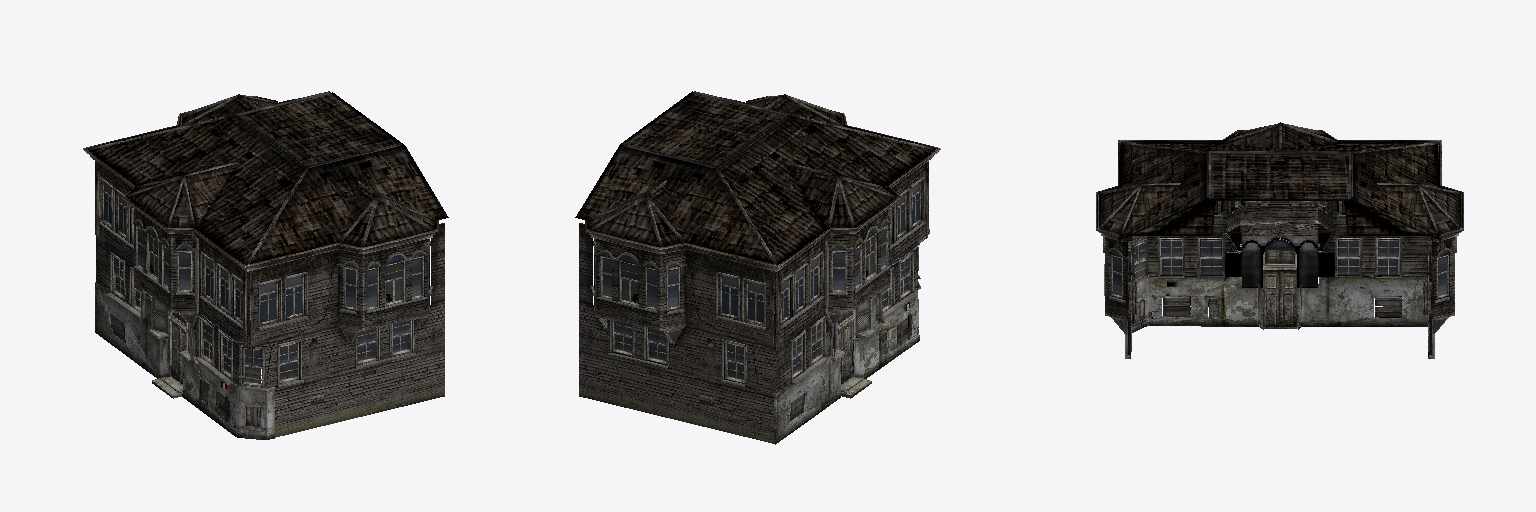
3 views of the same model, side by side, from view 1: azimuth 30°, elevation 25°; view 2: azimuth 150°, elevation 25°; view 3: azimuth 270°, elevation 25° (orthographic).
Parts seen in each view (by area): view 1: old_build_04_roof, old_build_02_upper, old_build_01_windows_door, old_build_03_base; view 2: old_build_04_roof, old_build_02_upper, old_build_01_windows_door, old_build_03_base; view 3: old_build_04_roof, old_build_02_upper, old_build_03_base, old_build_01_windows_door.
Boxes of the visible parts, <box> form: old_build_04_roof: <box>88,91,448,264</box>; old_build_02_upper: <box>83,96,444,437</box>; old_build_01_windows_door: <box>95,161,430,398</box>; old_build_03_base: <box>95,222,432,439</box>; old_build_04_roof: <box>575,91,935,264</box>; old_build_02_upper: <box>579,96,940,443</box>; old_build_01_windows_door: <box>593,161,929,398</box>; old_build_03_base: <box>591,221,925,444</box>; old_build_04_roof: <box>1098,122,1461,240</box>; old_build_02_upper: <box>1096,130,1463,354</box>; old_build_03_base: <box>1104,202,1449,358</box>; old_build_01_windows_door: <box>1103,201,1456,355</box>.
Size of the model in its own units: 171 by 163 by 243.
Materials: 4 (3 with a texture image).